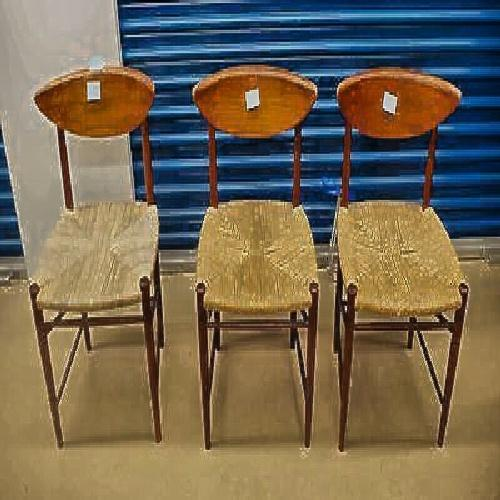chair: (28, 76, 168, 422), (349, 79, 477, 445), (197, 77, 324, 435)
